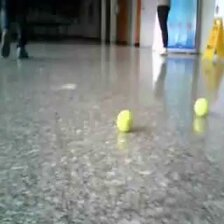tennis: (116, 110, 133, 133), (194, 97, 209, 118)
